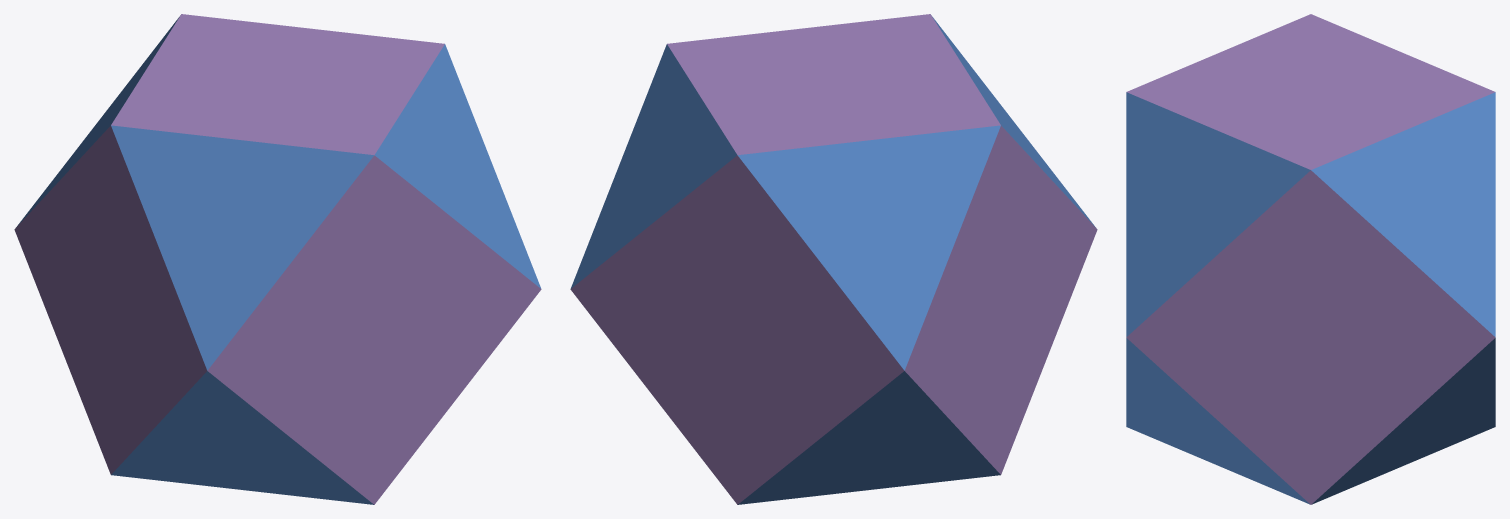
Rendered from 6.Cuboctahedro.gltf.
The picture shows the model from 3 angles, left to right: view 1: azimuth 30°, elevation 25°; view 2: azimuth 150°, elevation 25°; view 3: azimuth 270°, elevation 25°; orthographic projection. The views are drawn at different scales.
Parts seen in each view (by area): view 1: Solid.005; view 2: Solid.005; view 3: Solid.005.
Part boxes in pixels (<box>): Solid.005: <box>14,14,541,504</box>; Solid.005: <box>570,14,1097,504</box>; Solid.005: <box>1126,14,1495,504</box>.
Bounding box in the file's own units: 1.15 × 1.15 × 1.15.
